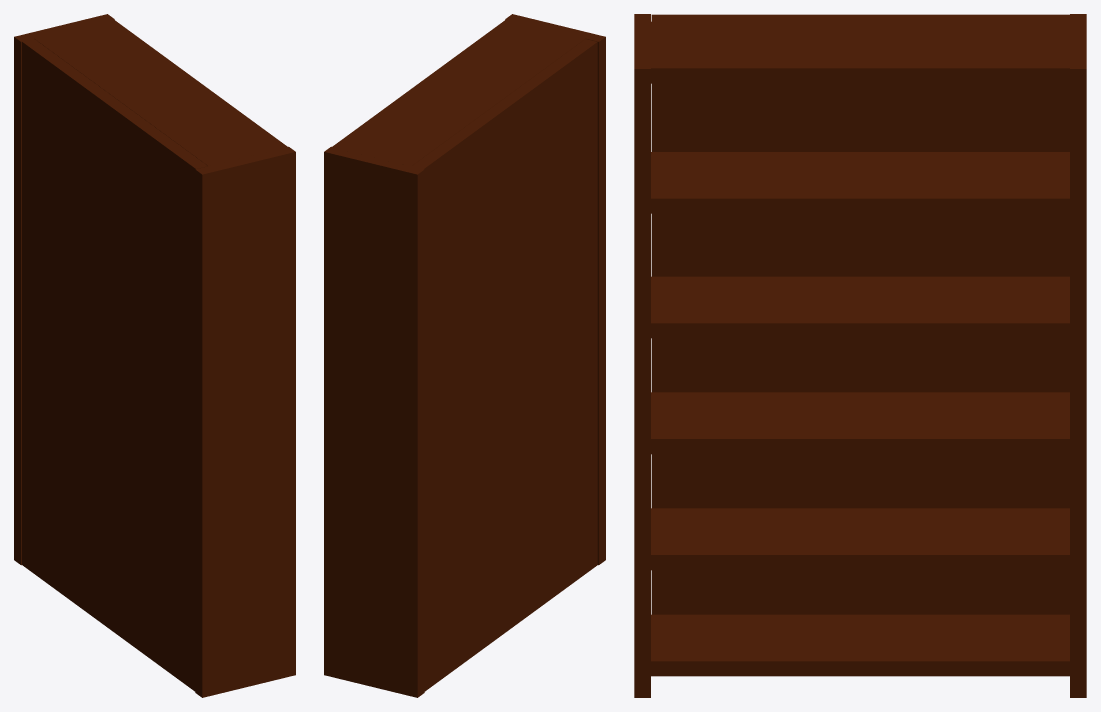
The model's file is shelf.fbx.
3 views of the same model, side by side, from view 1: azimuth 30°, elevation 25°; view 2: azimuth 150°, elevation 25°; view 3: azimuth 270°, elevation 25° (orthographic). The views are drawn at different scales.
Parts seen in each view (by area): view 1: Cube.006; view 2: Cube.006; view 3: Cube.006.
Part boxes in pixels (bbox=[...]): Cube.006: bbox=[14, 14, 295, 697]; Cube.006: bbox=[324, 14, 605, 697]; Cube.006: bbox=[634, 14, 1086, 697].
Size of the model in its own units: 296 by 1583 by 1032.
